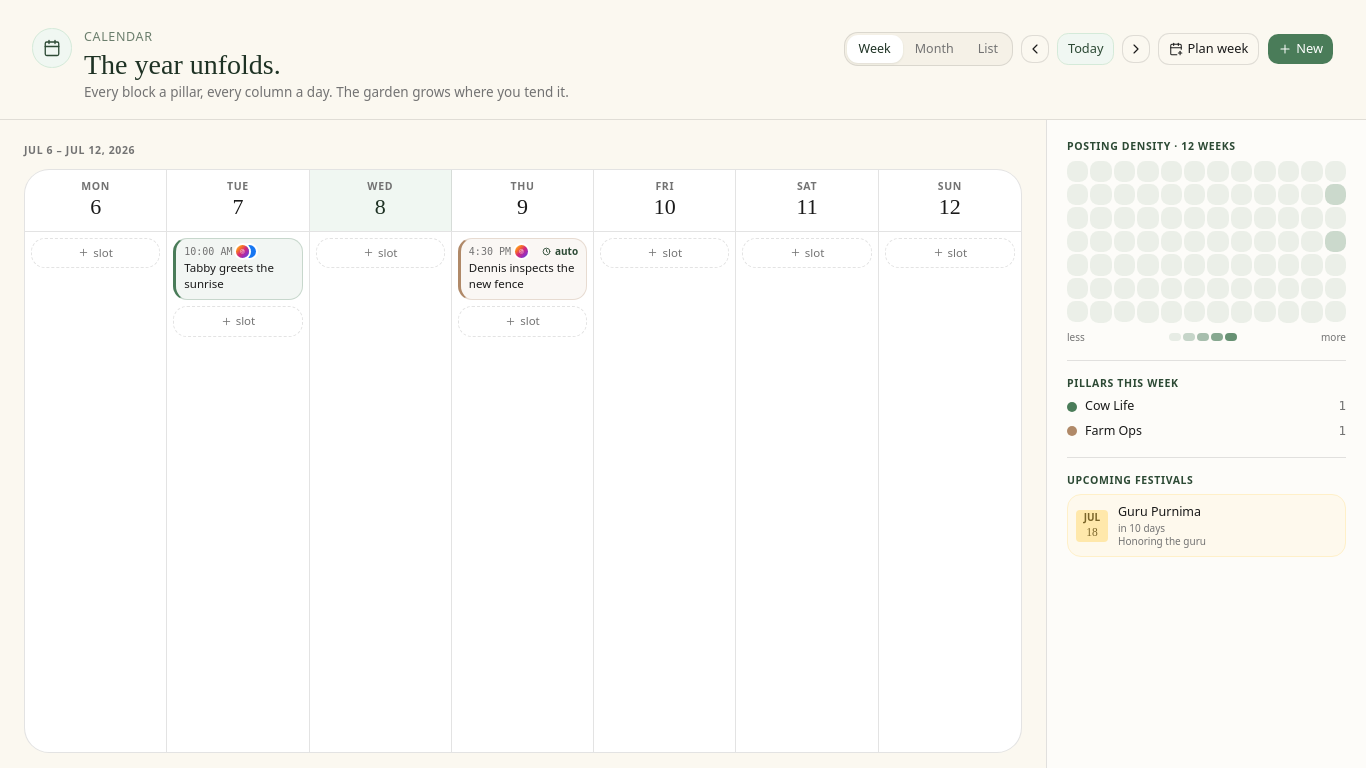
Scenario: CalendarPage › shows the auto dot on list rows too
Expected: the text "Tabby greets the sunrise" is shown, [184,260,274,291]
Click the radio button labelled "List" at (988, 49), box [966,35,1010,63]
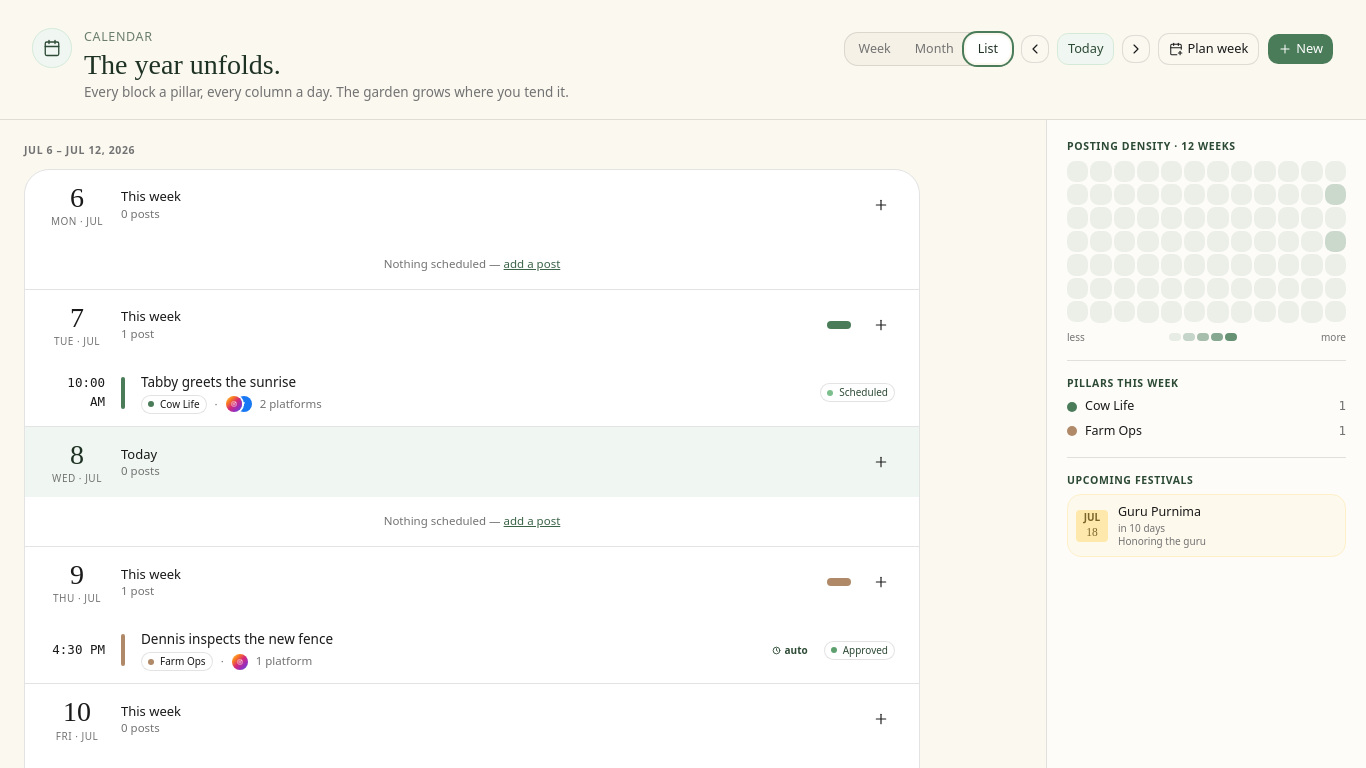
Expected: the text "auto" is shown once, [784,644,808,657]
